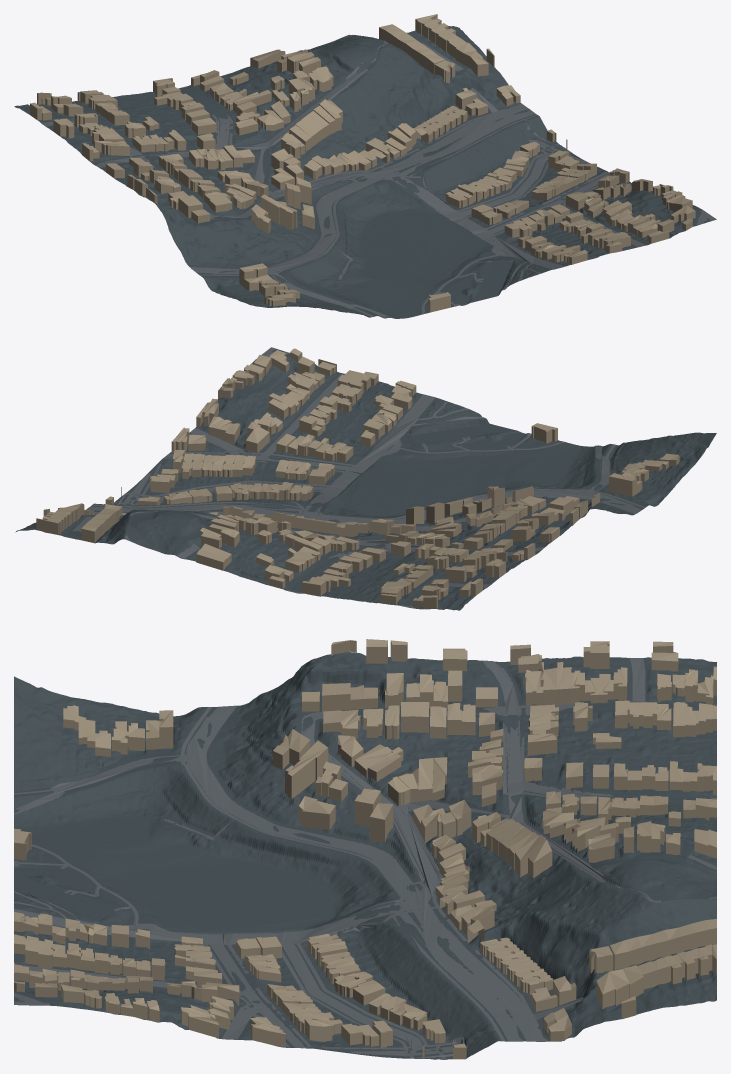
The model's file is epsg26910-1430-10876.lod0.glb.
The picture shows the model from 3 angles, top to bottom: view 1: azimuth 30°, elevation 25°; view 2: azimuth 150°, elevation 25°; view 3: azimuth 270°, elevation 25°; orthographic projection. The views are drawn at different scales.
Parts seen in each view (by area): view 1: epsg26910-1430-10876-lod0; view 2: epsg26910-1430-10876-lod0; view 3: epsg26910-1430-10876-lod0.
Part boxes in pixels (left/top/right/bottom): epsg26910-1430-10876-lod0: left=14, top=14, right=716, bottom=318; epsg26910-1430-10876-lod0: left=15, top=347, right=716, bottom=610; epsg26910-1430-10876-lod0: left=14, top=639, right=716, bottom=1059.
Size of the model in its own units: 384 by 74.59 by 384.
